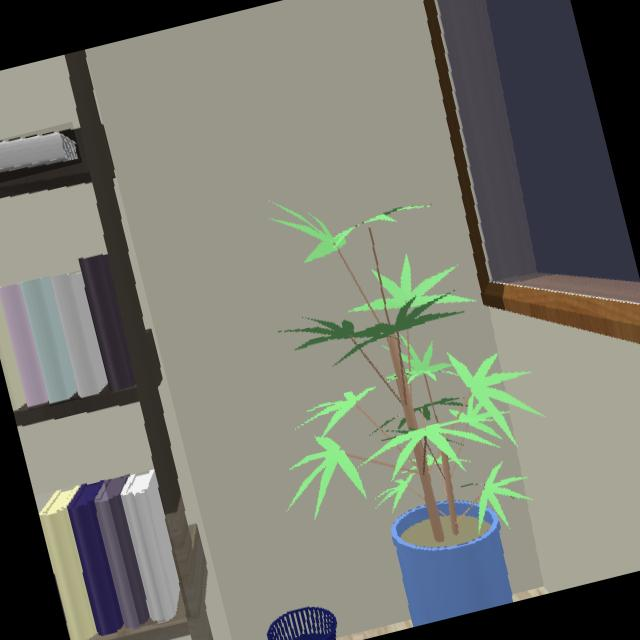book: (38, 485, 102, 640), (120, 470, 182, 625), (67, 481, 124, 636), (94, 476, 151, 629), (22, 280, 79, 405), (52, 272, 108, 398), (0, 284, 50, 409), (0, 128, 80, 176)
bookshelf: (0, 49, 213, 640)
